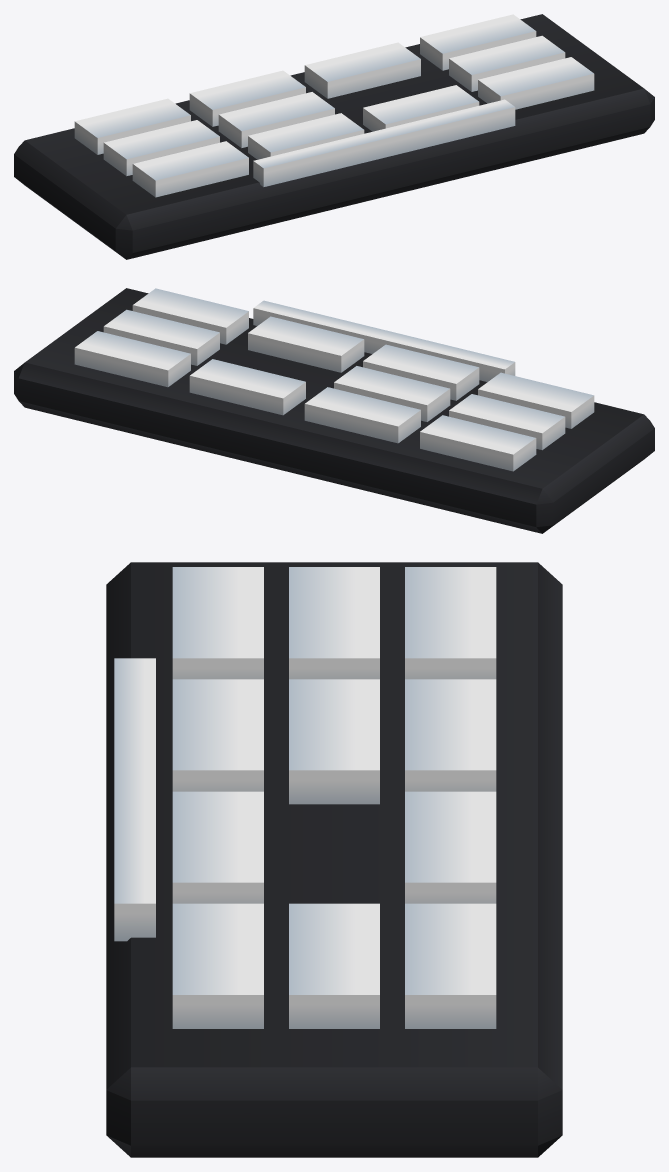
File: dt_keyboard.fbx
3 renders of one model, top to bottom at view 1: azimuth 30°, elevation 25°; view 2: azimuth 150°, elevation 25°; view 3: azimuth 270°, elevation 25°, orthographic. The views are drawn at different scales.
Visible parts, largest first — view 1: dt_keyboard; view 2: dt_keyboard; view 3: dt_keyboard.
Boxes of the visible parts, x1,y1,x2,y2 form: dt_keyboard: (14, 14, 654, 259); dt_keyboard: (14, 288, 654, 533); dt_keyboard: (106, 562, 562, 1157).
Bounding box in the file's own units: 150 × 16.5 × 55.
